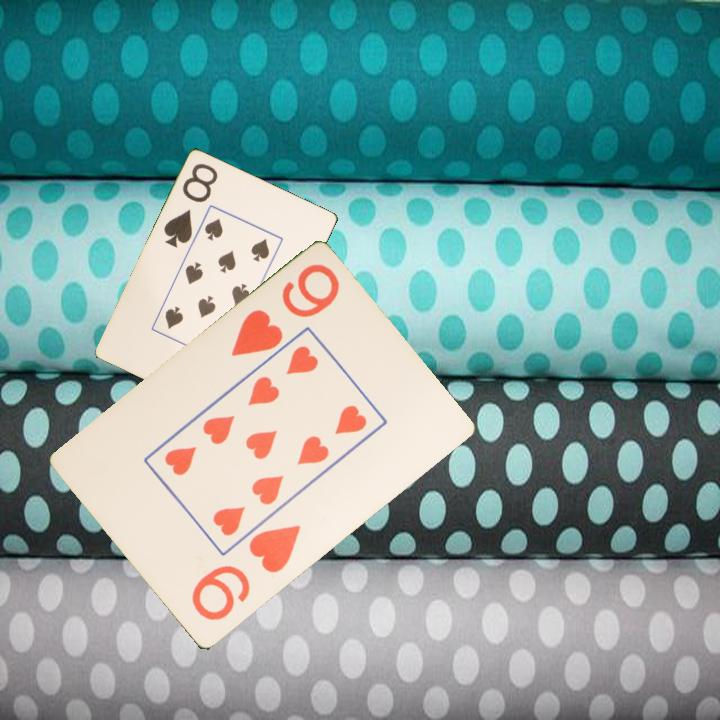8s: (160, 160, 221, 251)
9h: (187, 521, 304, 625), (227, 260, 343, 360)
